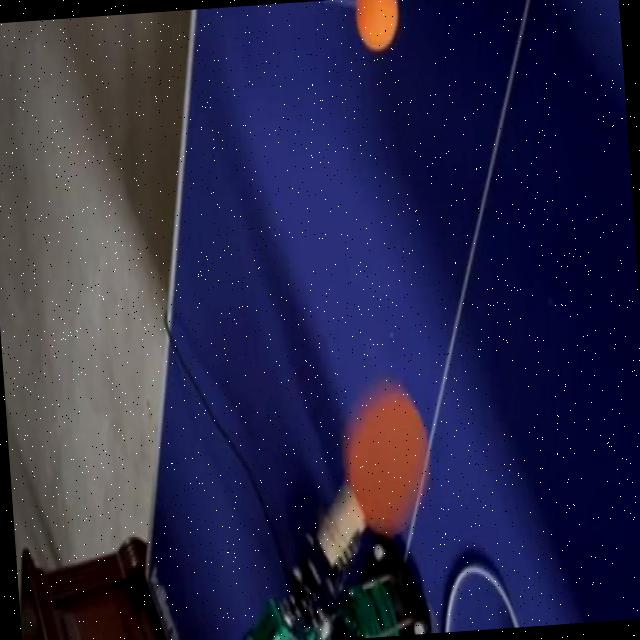ping-pong-ball: (351, 0, 399, 51)
